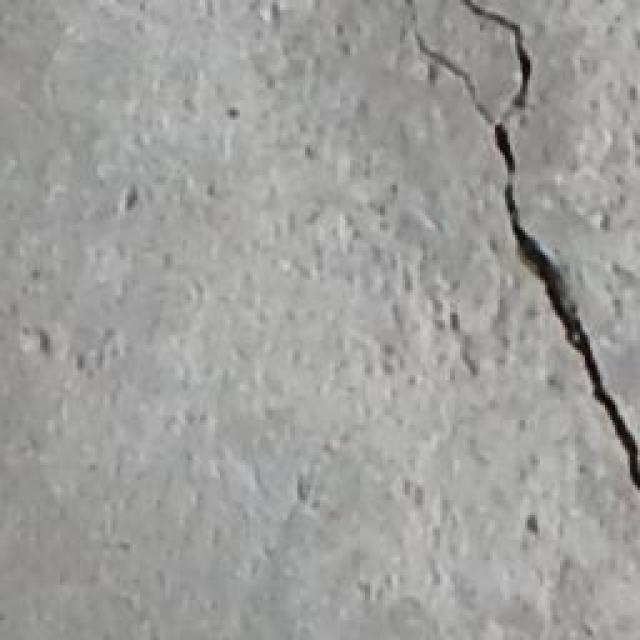concrete-crack: (403, 0, 640, 499)
